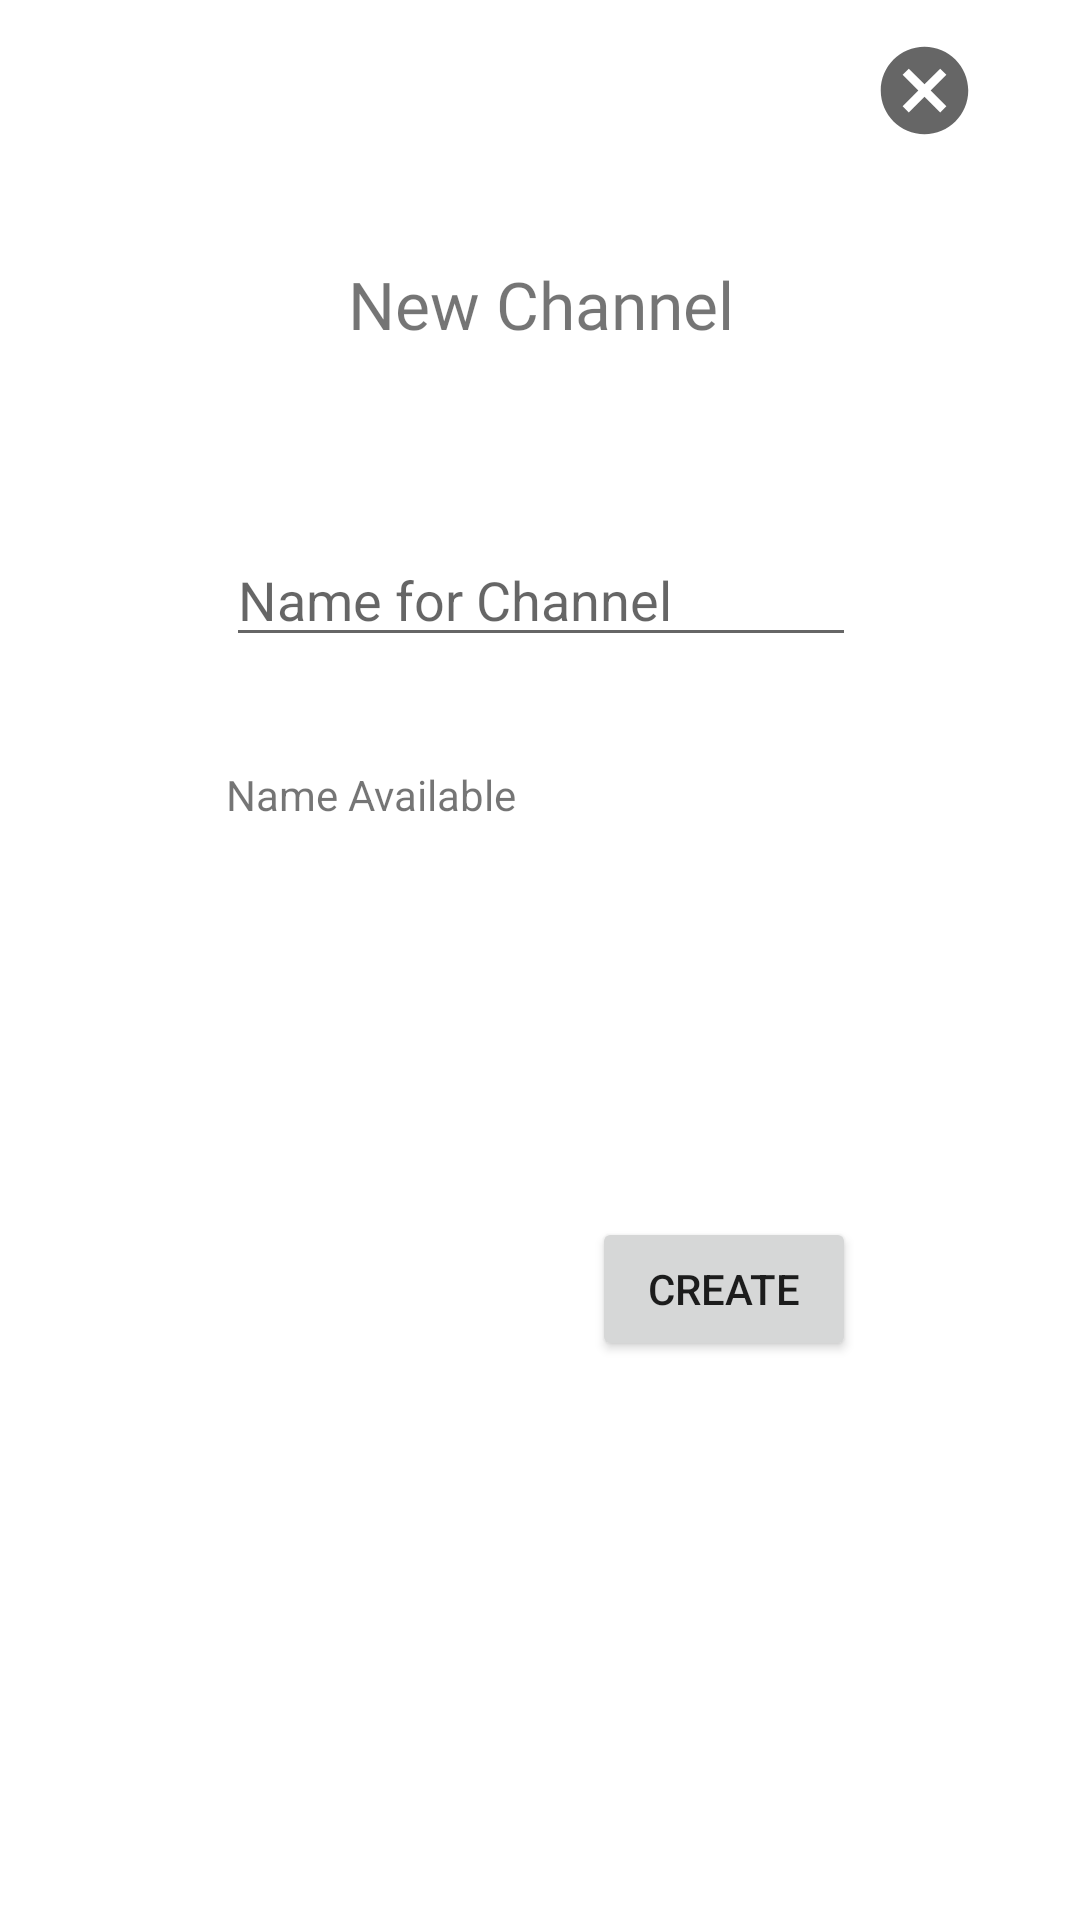

Point at icon controls on the screen. Image size 1080 × 1920, points as (x=x, y=y).
cancel: (x=924, y=90)
